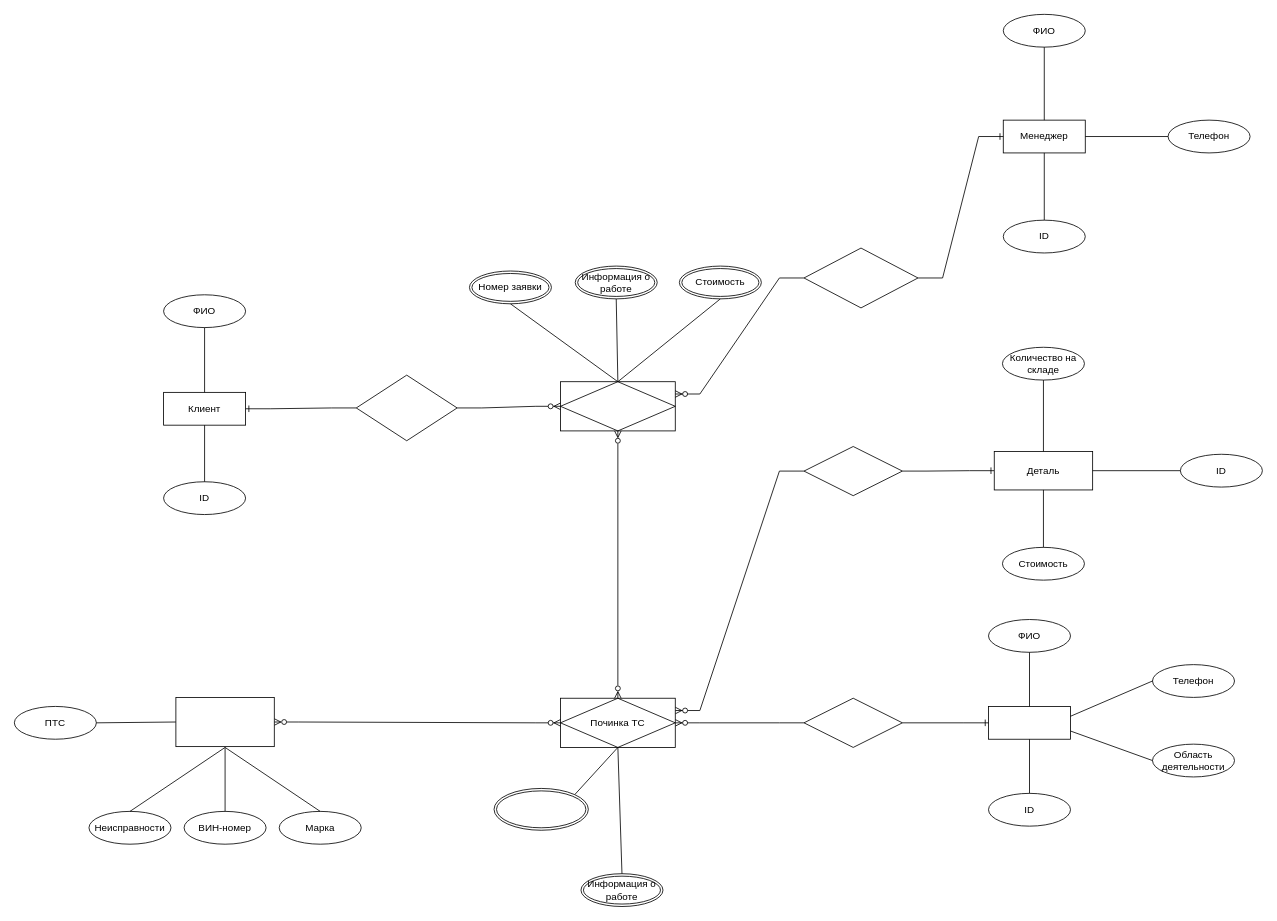
This 1277x921 diagram has some shape labels left out. Here are the shapes that lost their labels. From the top down, the centre of each, then its label:
At (860,277): "Обработка запроса на починку ТС".
At (406,407): "Запрос на починку ТС".
At (617,406): "Обращение на починку ТС".
At (852,471): "Заказ деталей".
At (224,722): "ТС".
At (852,722): "Диагностика ТС".
At (1029,722): "Работник автосервиса".
At (540,809): "Статус выполнения работ".
